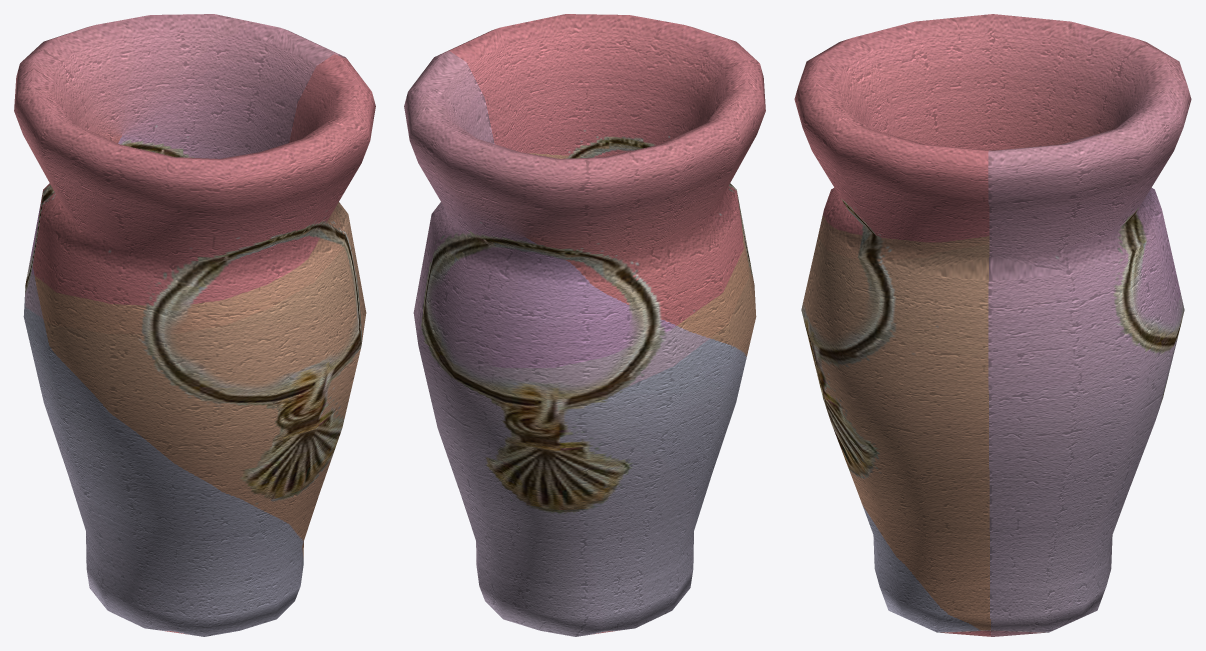
Rendered from bigvase.fbx.
The picture shows the model from 3 angles, left to right: view 1: azimuth 30°, elevation 25°; view 2: azimuth 150°, elevation 25°; view 3: azimuth 270°, elevation 25°; orthographic projection.
Visible parts, largest first — view 1: bigvase; view 2: bigvase; view 3: bigvase.
Boxes of the visible parts, x1,y1,x2,y2 form: bigvase: (14, 14, 375, 636); bigvase: (404, 14, 765, 636); bigvase: (794, 14, 1191, 636).
Size of the model in its own units: 0.2 by 0.3181 by 0.2183.
